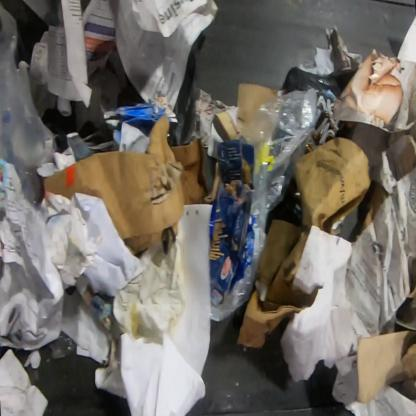cardboard: (42, 114, 185, 257), (237, 219, 318, 348), (209, 140, 256, 308), (294, 136, 371, 237), (355, 328, 416, 406), (97, 94, 179, 151), (169, 137, 207, 205), (238, 82, 278, 132), (388, 130, 415, 183), (333, 216, 345, 235)
soft_plastic: (210, 87, 321, 322), (0, 4, 58, 209), (285, 64, 359, 155)
